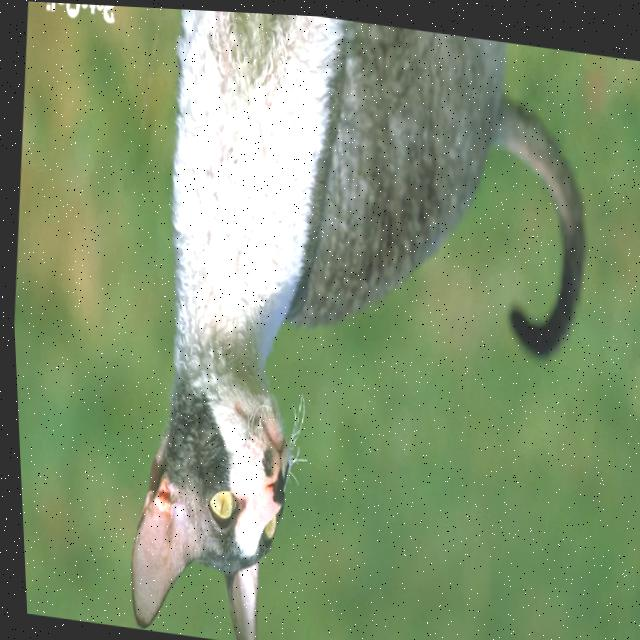Cornish Rex: (95, 4, 621, 640)
